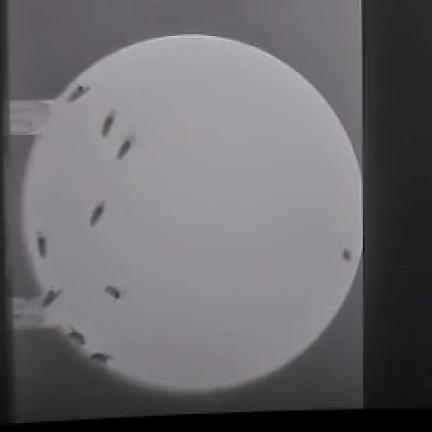fly: (42, 288, 62, 307), (90, 202, 105, 226), (68, 85, 89, 102), (118, 137, 133, 160), (102, 110, 115, 136), (70, 328, 86, 345), (90, 353, 112, 365), (104, 287, 124, 300), (37, 233, 46, 257), (343, 249, 352, 260)
